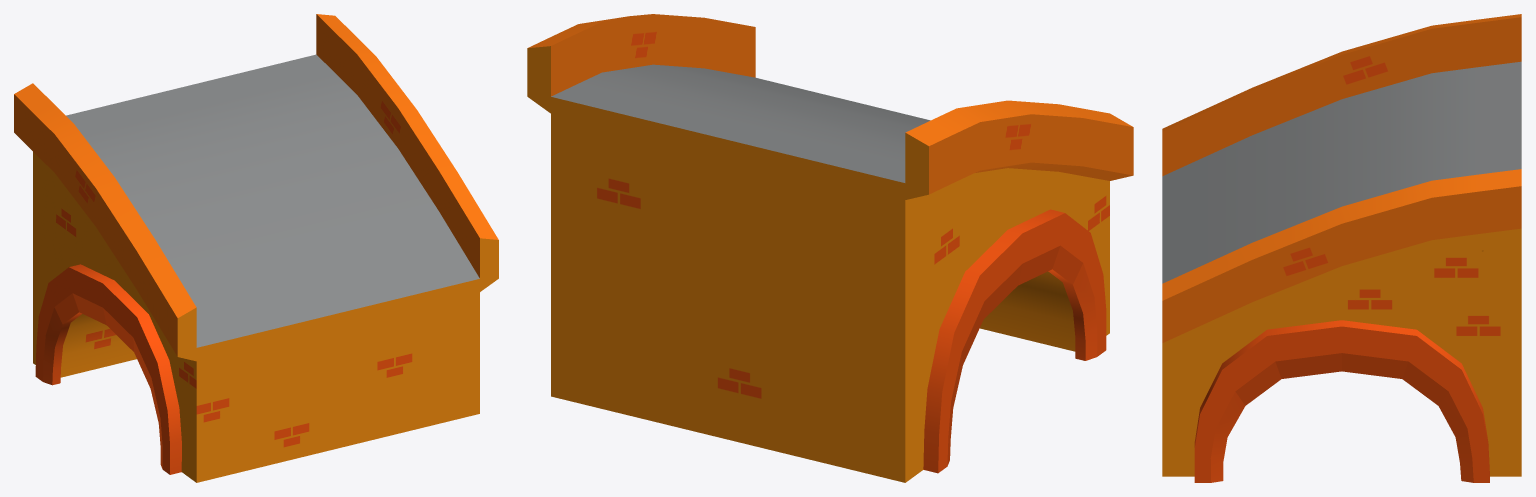
The model's file is Bridge1Ramp2.fbx.
3 views of the same model, side by side, from view 1: azimuth 30°, elevation 25°; view 2: azimuth 150°, elevation 25°; view 3: azimuth 270°, elevation 25° (orthographic). The views are drawn at different scales.
Visible parts, largest first — view 1: Bridge1Ramp2; view 2: Bridge1Ramp2; view 3: Bridge1Ramp2.
Part boxes in pixels (<box>): Bridge1Ramp2: <box>14,14,498,482</box>; Bridge1Ramp2: <box>527,14,1133,482</box>; Bridge1Ramp2: <box>1162,14,1521,482</box>.
Bounding box in the file's own units: 13.6 × 11.33 × 12.
